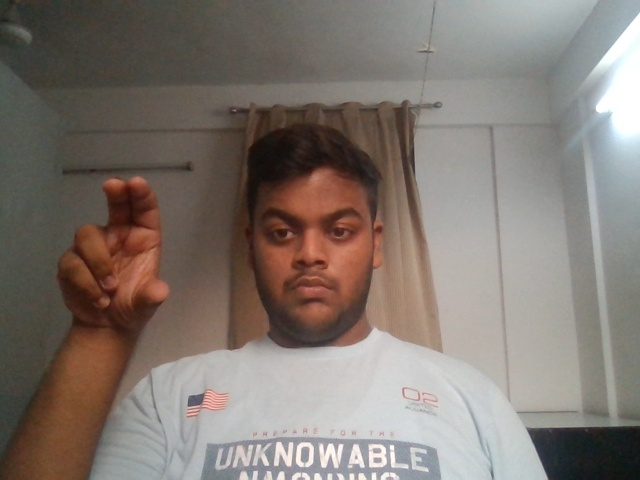No: (23, 163, 195, 358)
